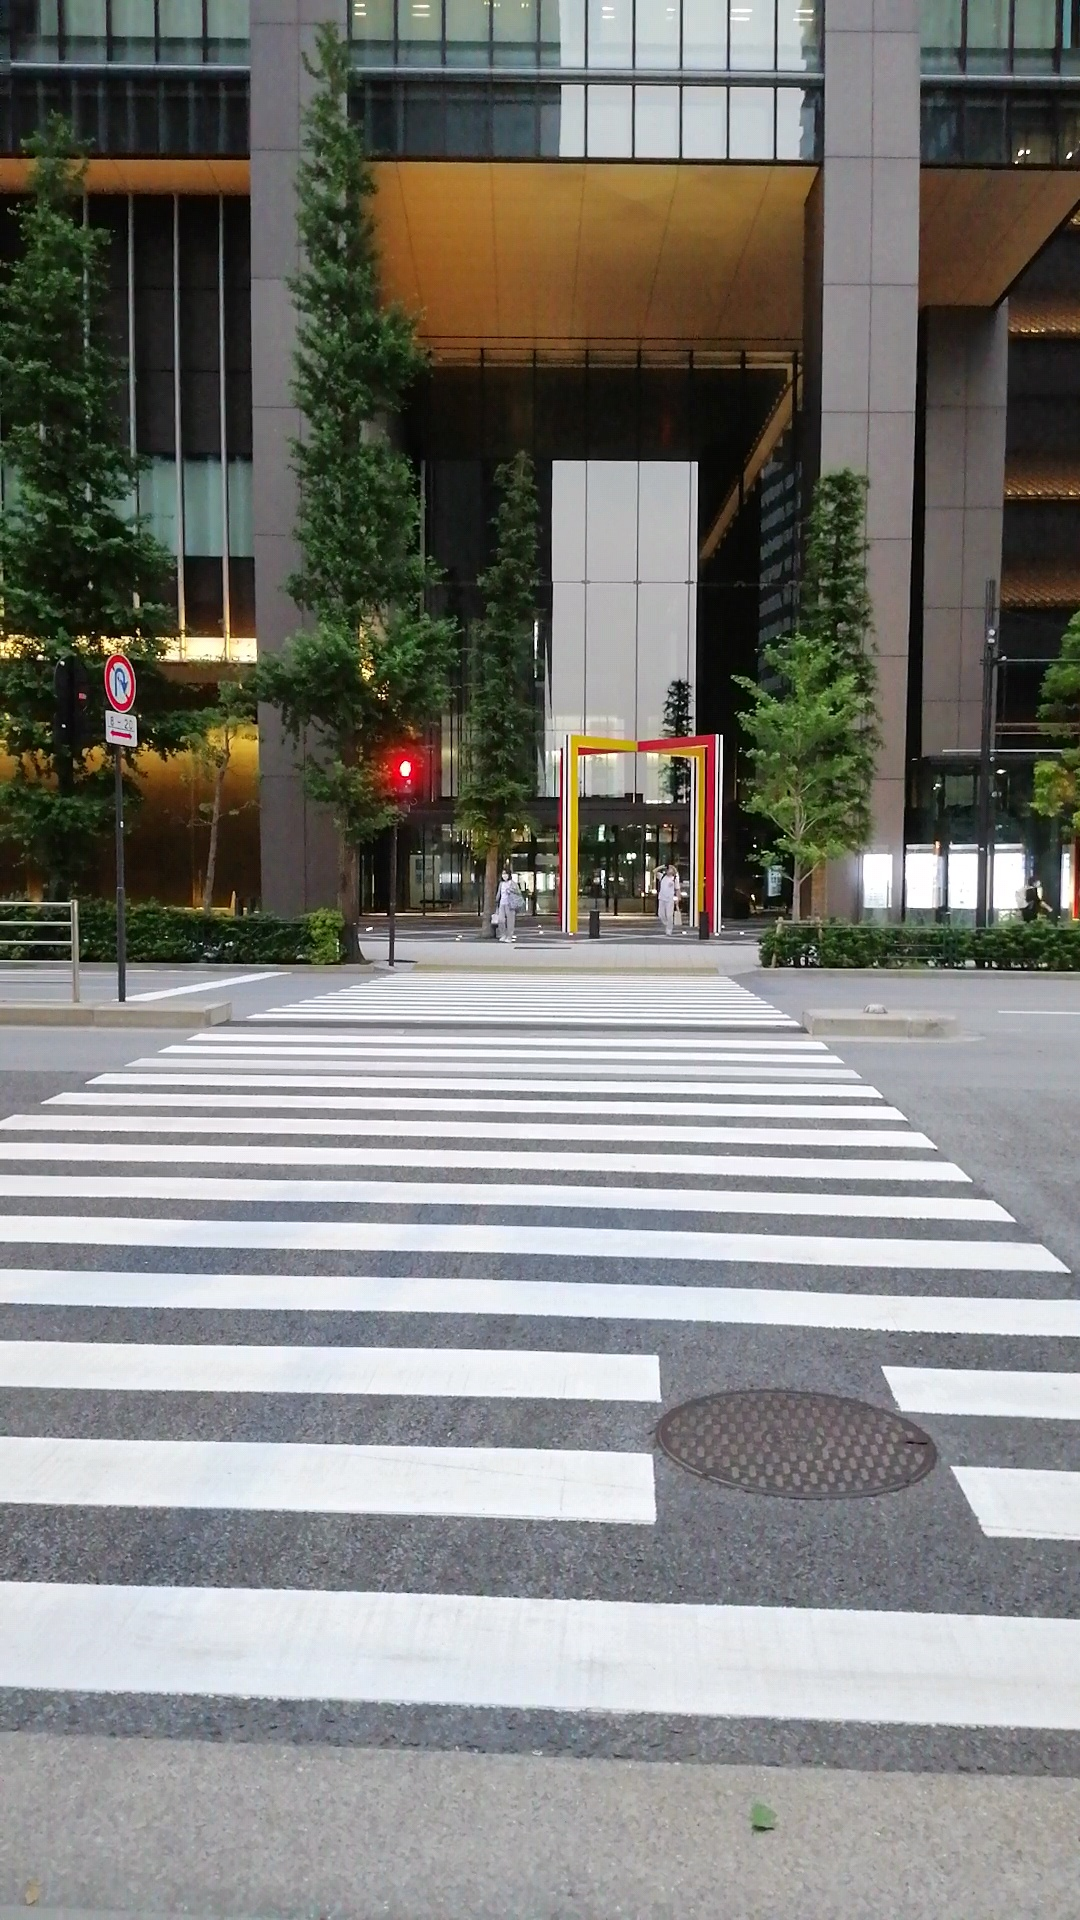red: (390, 754, 419, 800)
